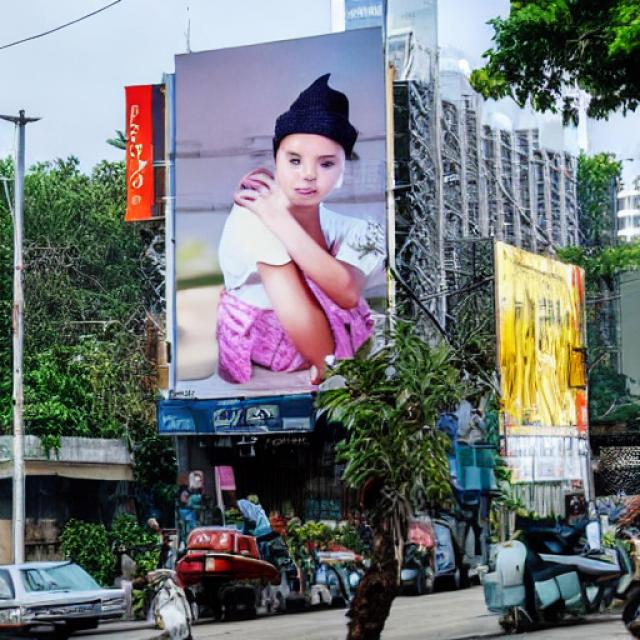Billboard: (165, 24, 392, 404), (492, 235, 588, 443)
